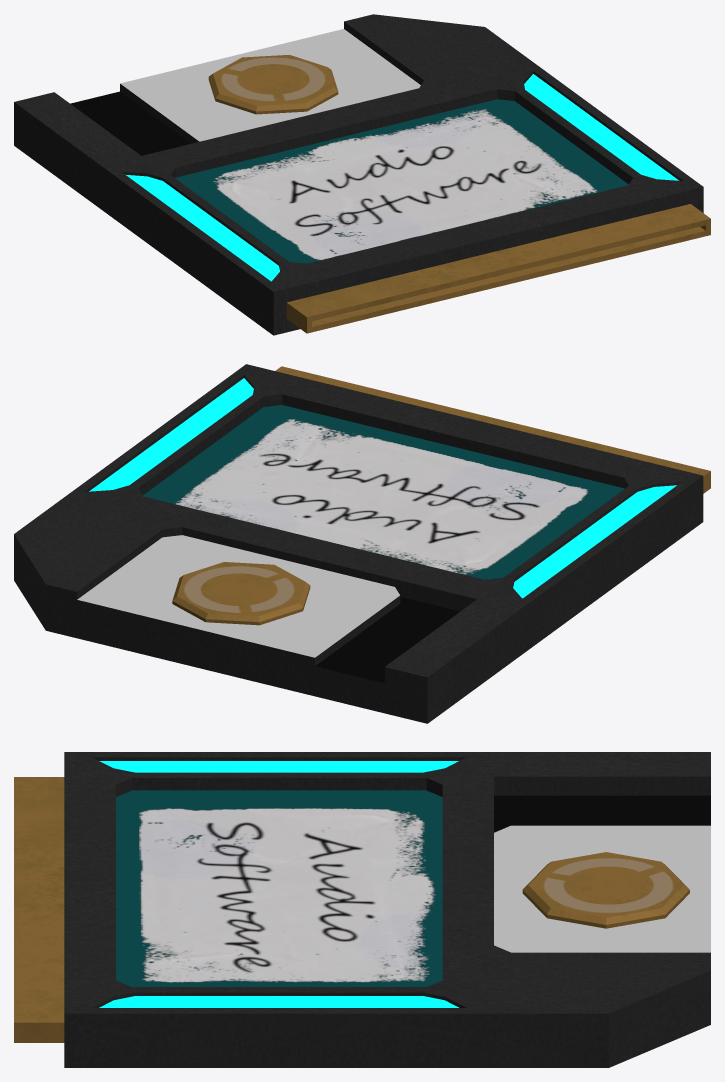
The model's file is Disk2 - Texture.gltf.
3 renders of one model, top to bottom at view 1: azimuth 30°, elevation 25°; view 2: azimuth 150°, elevation 25°; view 3: azimuth 270°, elevation 25°, orthographic. The views are drawn at different scales.
Visible parts, largest first — view 1: Plane; view 2: Plane; view 3: Plane.
Part boxes in pixels (x1=…): Plane: x1=14, y1=14, x2=710, y2=335; Plane: x1=14, y1=364, x2=710, y2=723; Plane: x1=14, y1=752, x2=710, y2=1067.
Size of the model in its own units: 3.98 by 0.3865 by 4.49.
1 material, 1 textured.
